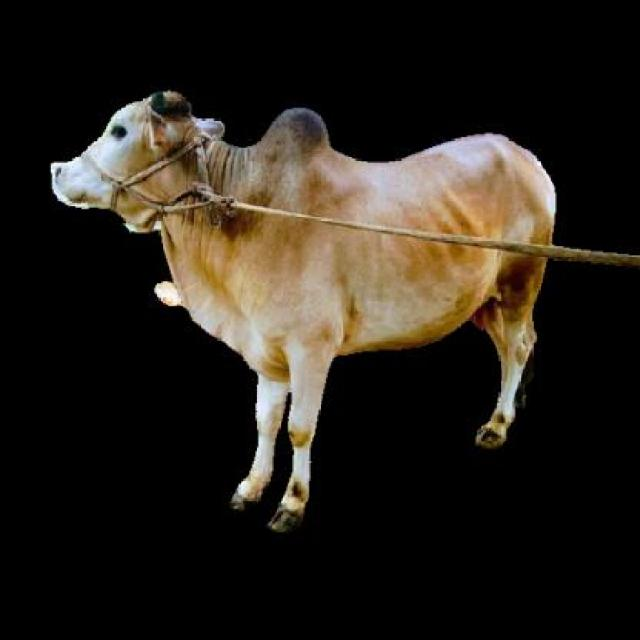Cow: (49, 86, 560, 532)
